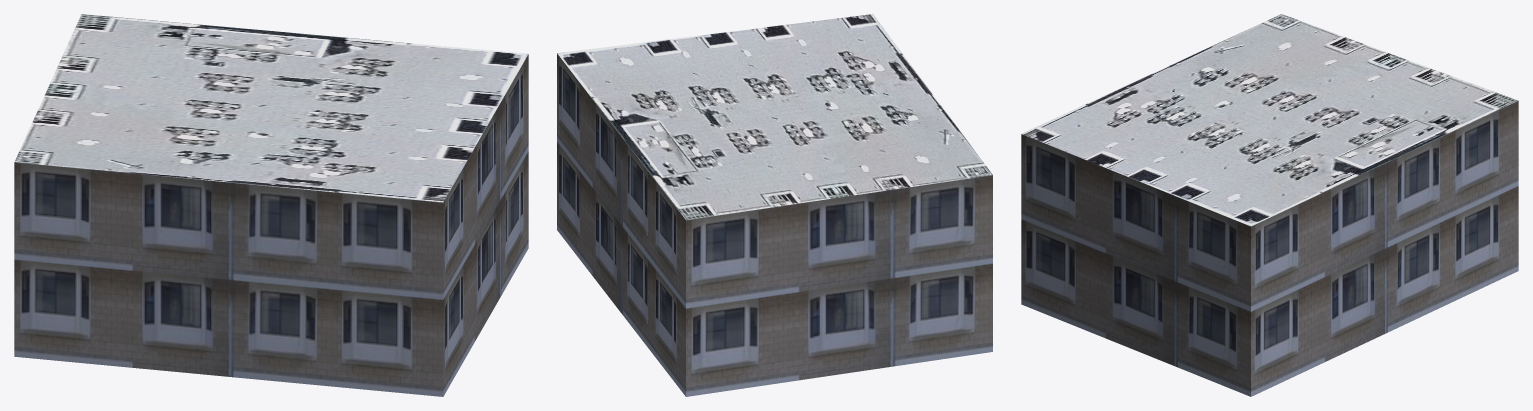
File: ResTex__3021.fbx
The picture shows the model from 3 angles, left to right: view 1: azimuth 30°, elevation 25°; view 2: azimuth 150°, elevation 25°; view 3: azimuth 270°, elevation 25°; orthographic projection. The views are drawn at different scales.
Parts seen in each view (by area): view 1: CityEngineMaterial_3_m, CityEngineMaterial_4_m; view 2: CityEngineMaterial_3_m, CityEngineMaterial_4_m; view 3: CityEngineMaterial_3_m, CityEngineMaterial_4_m.
Boxes of the visible parts, left/top/right/bottom form: CityEngineMaterial_3_m: left=14, top=54, right=528, bottom=396; CityEngineMaterial_4_m: left=14, top=14, right=528, bottom=202; CityEngineMaterial_3_m: left=557, top=53, right=992, bottom=396; CityEngineMaterial_4_m: left=557, top=14, right=992, bottom=219; CityEngineMaterial_3_m: left=1021, top=100, right=1518, bottom=396; CityEngineMaterial_4_m: left=1022, top=14, right=1518, bottom=226.
Size of the model in its own units: 16.04 by 6 by 15.87.
2 materials, 2 textured.
